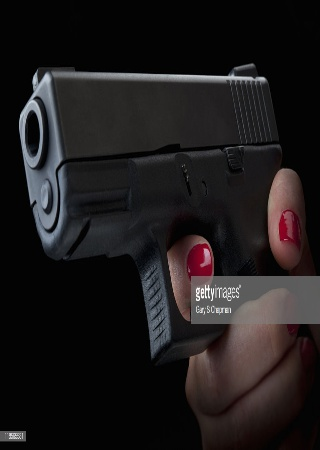handgun: (16, 54, 272, 353)
